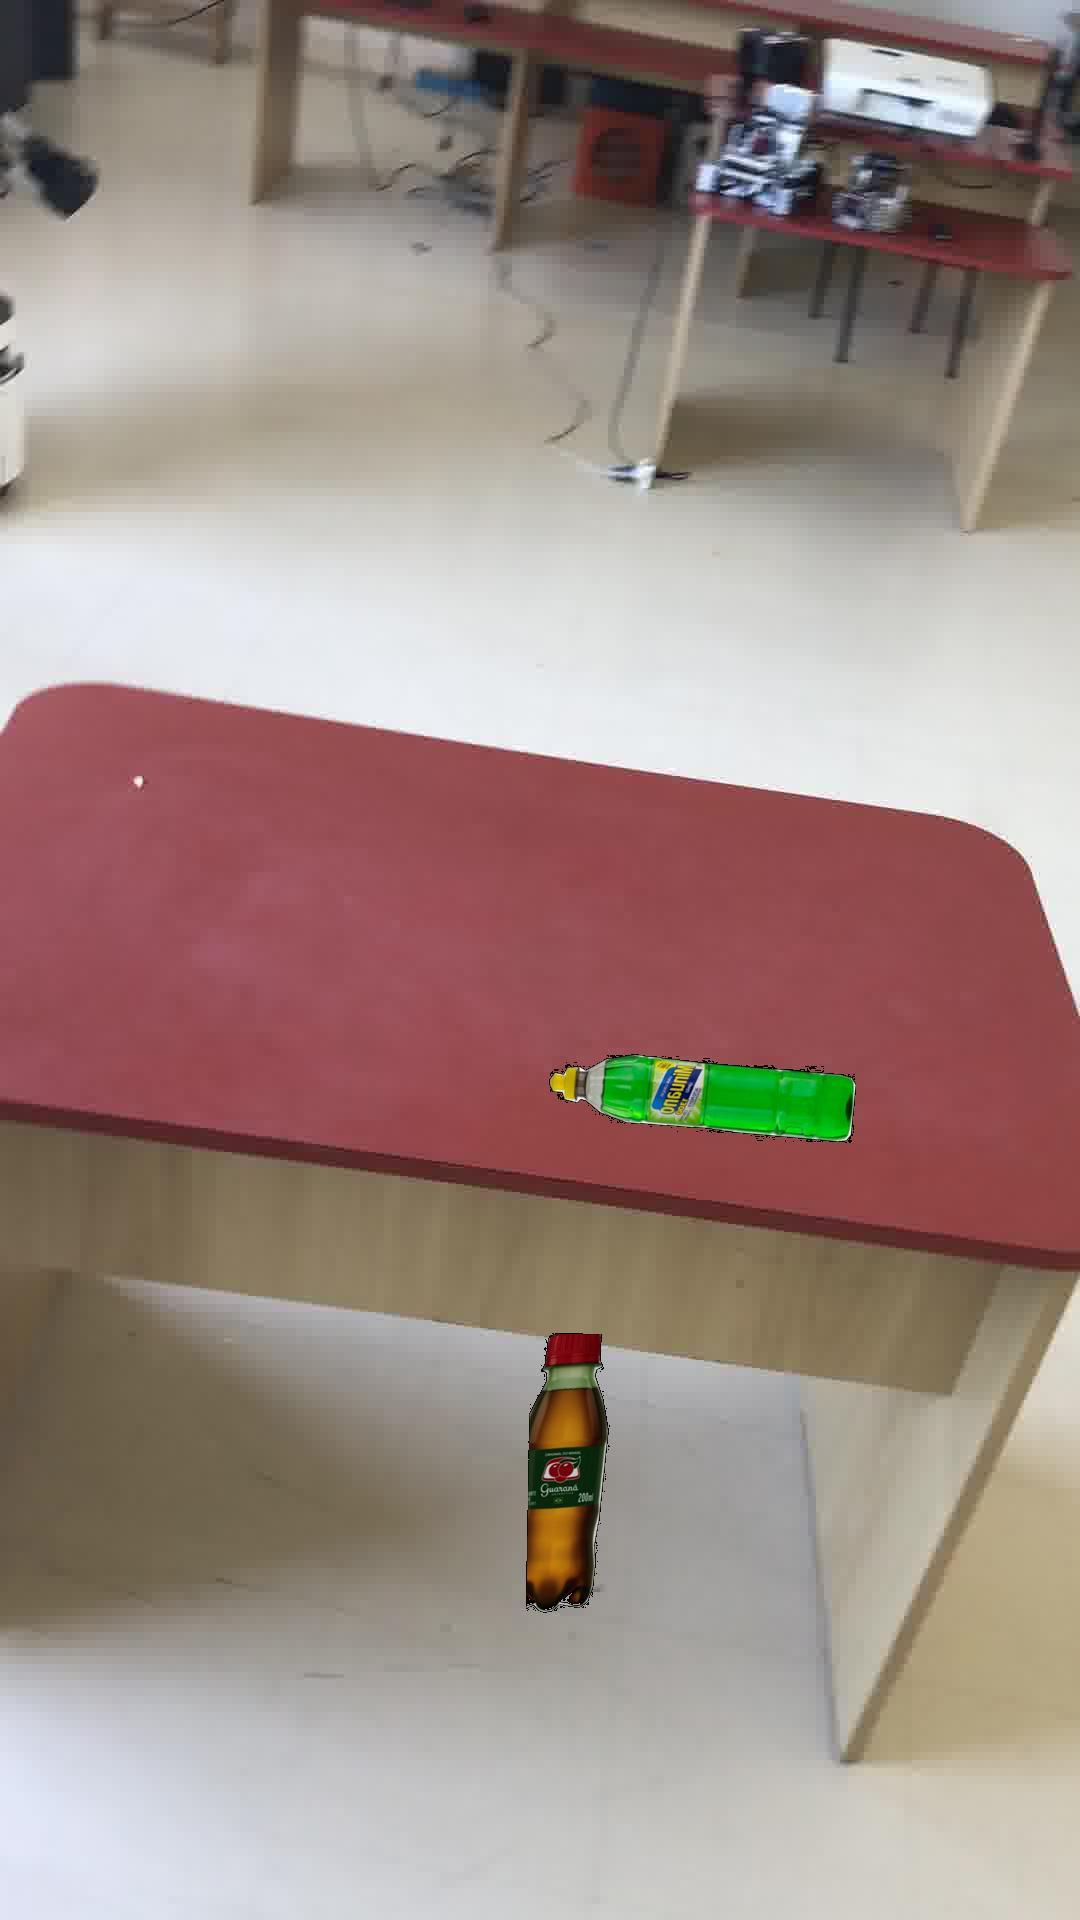cleaner: (547, 1052, 855, 1142)
guarana: (525, 1332, 608, 1611)
